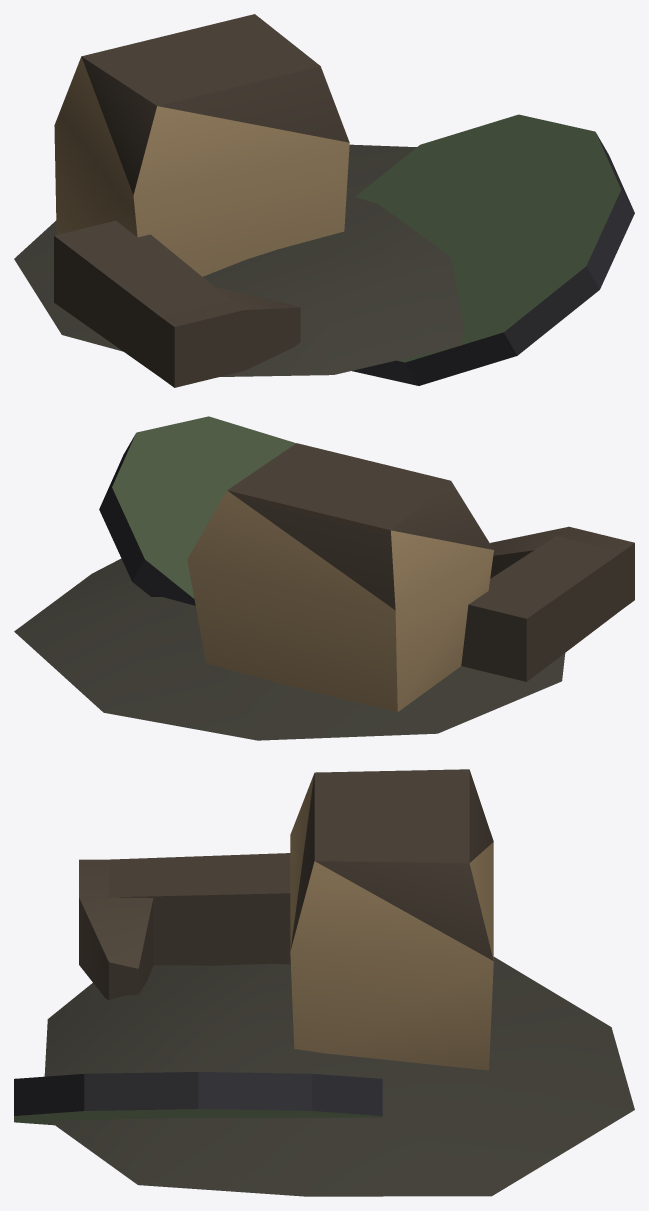
File: LostBelongings.fbx
3 views of the same model, one above another, from view 1: azimuth 30°, elevation 25°; view 2: azimuth 150°, elevation 25°; view 3: azimuth 270°, elevation 25° (orthographic). The views are drawn at different scales.
Visible parts, largest first — view 1: LostBelongings; view 2: LostBelongings; view 3: LostBelongings.
Part boxes in pixels (<box>): LostBelongings: <box>14,14,634,387</box>; LostBelongings: <box>14,416,634,740</box>; LostBelongings: <box>14,769,634,1196</box>.
Size of the model in its own units: 0.87 by 0.4221 by 0.8332.
